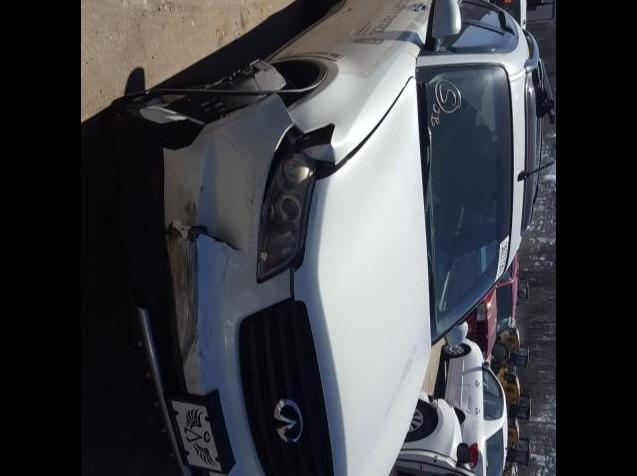Broken part: (162, 90, 308, 476), (112, 56, 326, 140), (304, 76, 410, 188), (258, 126, 332, 280)
Dent: (304, 144, 348, 168)
Scratch: (168, 249, 210, 390), (244, 172, 260, 264), (168, 178, 206, 214), (222, 256, 238, 292), (219, 128, 236, 156), (236, 134, 251, 156)
